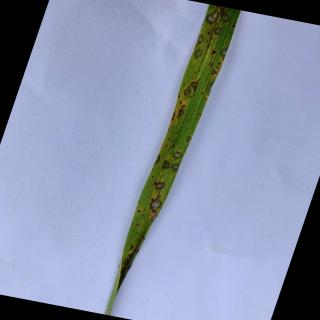Blast: (149, 191, 163, 213), (205, 9, 220, 24), (153, 180, 166, 192), (176, 104, 186, 119), (194, 34, 206, 44), (173, 150, 183, 160), (161, 160, 171, 170), (194, 48, 203, 59), (222, 12, 230, 24), (154, 154, 161, 167), (149, 212, 158, 222), (183, 87, 191, 98), (214, 26, 222, 35), (171, 162, 180, 170), (191, 80, 198, 90), (220, 49, 228, 57), (210, 48, 217, 56), (210, 69, 217, 77), (171, 113, 176, 122), (208, 60, 214, 67), (186, 135, 192, 142), (209, 62, 214, 66)
